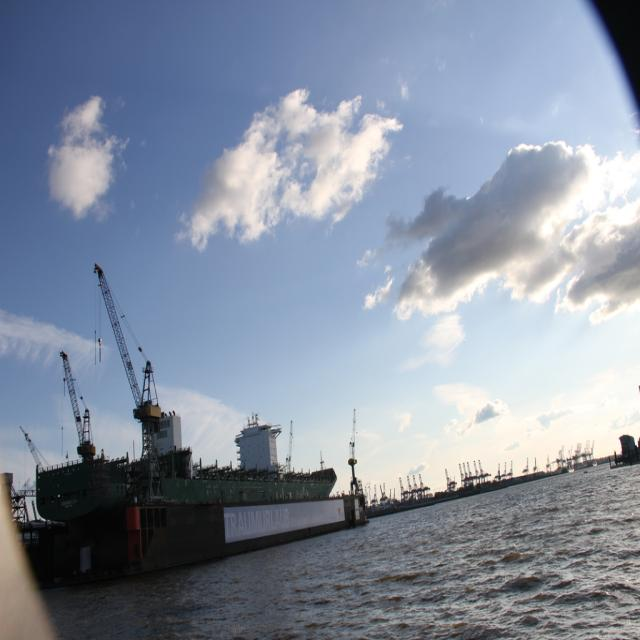Boat: (22, 253, 381, 561)
